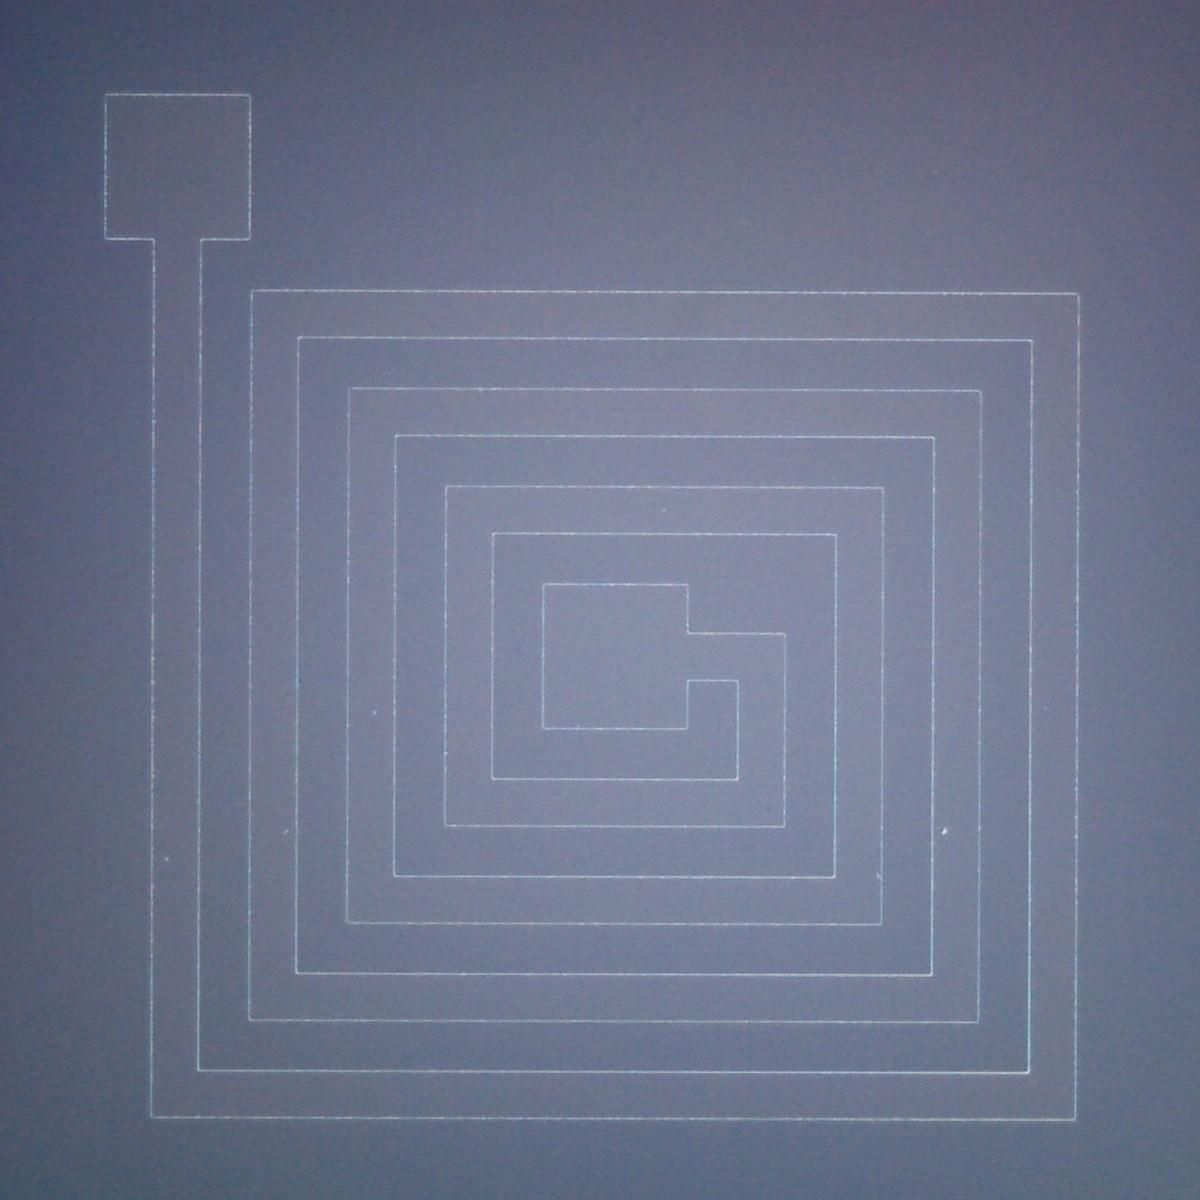B_point: (940, 825, 949, 838)
s_point: (160, 853, 174, 866), (279, 826, 293, 838), (369, 707, 381, 720), (659, 505, 670, 516), (875, 871, 885, 882)
